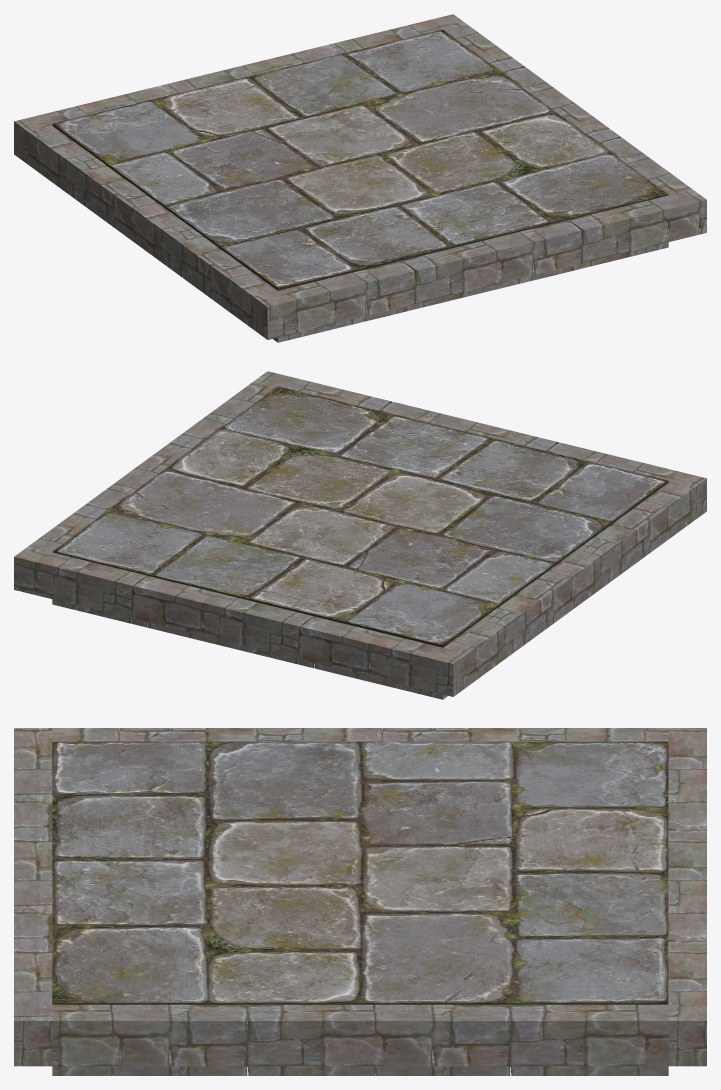
3 views of the same model, one above another, from view 1: azimuth 30°, elevation 25°; view 2: azimuth 150°, elevation 25°; view 3: azimuth 270°, elevation 25° (orthographic). The views are drawn at different scales.
Visible parts, largest first — view 1: SM_BB_T3_Floor_Large_LOD0; view 2: SM_BB_T3_Floor_Large_LOD0; view 3: SM_BB_T3_Floor_Large_LOD0.
Part boxes in pixels (x1=…): SM_BB_T3_Floor_Large_LOD0: x1=14, y1=14, x2=706, y2=342; SM_BB_T3_Floor_Large_LOD0: x1=14, y1=371, x2=706, y2=699; SM_BB_T3_Floor_Large_LOD0: x1=14, y1=728, x2=706, y2=1075.
Bounding box in the file's own units: 3.38 × 0.3973 × 3.38.
2 materials, 2 textured.
